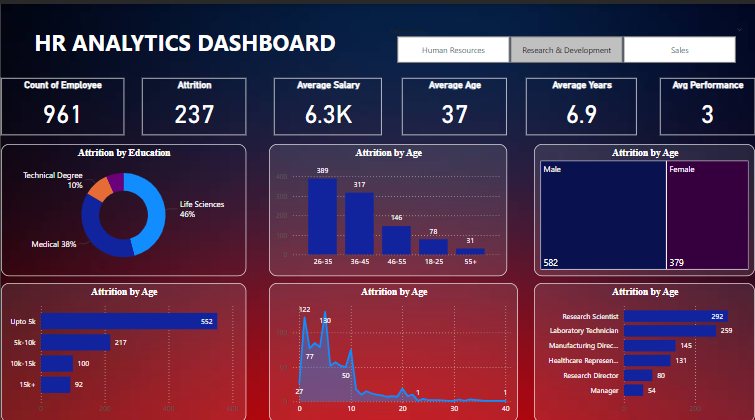

What the dashboard file says about the page in this screenshot:
{"tool":"powerbi","page":{"name":"Page 1","canvas":[1280,720],"ordinal":0},"visuals":[{"type":"card","title":"Count of Employee","fields":{"Values":["CountNonNull(HR_Analytics.EmpID)"]},"box":[0,124.3,206.6,95.7],"z":0},{"type":"card","title":"Attrition","fields":{"Values":["HR_Analytics.Attrition_count"]},"box":[236.9,124.3,174.7,95.7],"z":2},{"type":"card","title":"Average Age","fields":{"Values":["Avg(HR_Analytics.Age)"]},"box":[673.6,124.3,176.4,95.7],"z":3},{"type":"card","title":"Average Salary","fields":{"Values":["Avg(HR_Analytics.MonthlyIncome)"]},"box":[458.6,124.3,181.4,95.7],"z":4},{"type":"card","title":"Average Years","fields":{"Values":["Avg(HR_Analytics.YearsAtCompany)"]},"box":[881.9,124.3,186.5,95.7],"z":5},{"type":"card","title":"Avg Performance","fields":{"Values":["Avg(HR_Analytics.PerformanceRating)"]},"box":[1107,124.3,159.6,95.7],"z":6},{"type":"donutChart","title":"Attrition by Education","fields":{"Category":["HR_Analytics.EducationField","HR_Analytics.Education"],"Y":["CountNonNull(HR_Analytics.Attrition)"]},"box":[0,235.2,411.5,221.7],"z":7},{"type":"columnChart","title":"Attrition by Age","fields":{"Category":["HR_Analytics.AgeGroup"],"Y":["CountNonNull(HR_Analytics.Attrition)"]},"box":[450.2,235.2,399.8,221.7],"z":8},{"type":"barChart","title":"Attrition by Age","fields":{"Category":["HR_Analytics.SalarySlab"],"Y":["CountNonNull(HR_Analytics.Attrition)"]},"box":[0,468.7,411.5,235.2],"z":10},{"type":"barChart","title":"Attrition by Age","fields":{"Category":["HR_Analytics.JobRole"],"Y":["CountNonNull(HR_Analytics.Attrition)"]},"box":[895.3,468.7,371.2,235.2],"z":11},{"type":"areaChart","title":"Attrition by Age","fields":{"Category":["HR_Analytics.YearsAtCompany"],"Y":["CountNonNull(HR_Analytics.Attrition)"]},"box":[450.2,468.7,418.3,235.2],"z":12},{"type":"treemap","title":"Attrition by Age","fields":{"Group":["HR_Analytics.Gender"],"Values":["CountNonNull(HR_Analytics.Attrition)"]},"box":[895.3,235.2,371.2,221.7],"z":13},{"type":"slicer","fields":{"Values":["HR_Analytics.Department"]},"box":[640,33.6,618.2,72.2],"z":14},{"type":"textbox","box":[0,33.6,618.2,72.2],"z":15}]}

Visuals, with their boxes in screenshot pixels (x1, y1, x2, y2), scaled from the page's 1280x720 canvas onto the 755x420 screenshot:
"Count of Employee" card: bbox=(0, 73, 122, 128)
"Attrition" card: bbox=(140, 73, 243, 128)
"Average Age" card: bbox=(397, 73, 501, 128)
"Average Salary" card: bbox=(271, 73, 378, 128)
"Average Years" card: bbox=(520, 73, 630, 128)
"Avg Performance" card: bbox=(653, 73, 747, 128)
"Attrition by Education" donutChart: bbox=(0, 137, 243, 267)
"Attrition by Age" columnChart: bbox=(266, 137, 501, 267)
"Attrition by Age" barChart: bbox=(0, 273, 243, 411)
"Attrition by Age" barChart: bbox=(528, 273, 747, 411)
"Attrition by Age" areaChart: bbox=(266, 273, 512, 411)
"Attrition by Age" treemap: bbox=(528, 137, 747, 267)
slicer - HR_Analytics.Department: bbox=(378, 20, 742, 62)
textbox: bbox=(0, 20, 365, 62)
